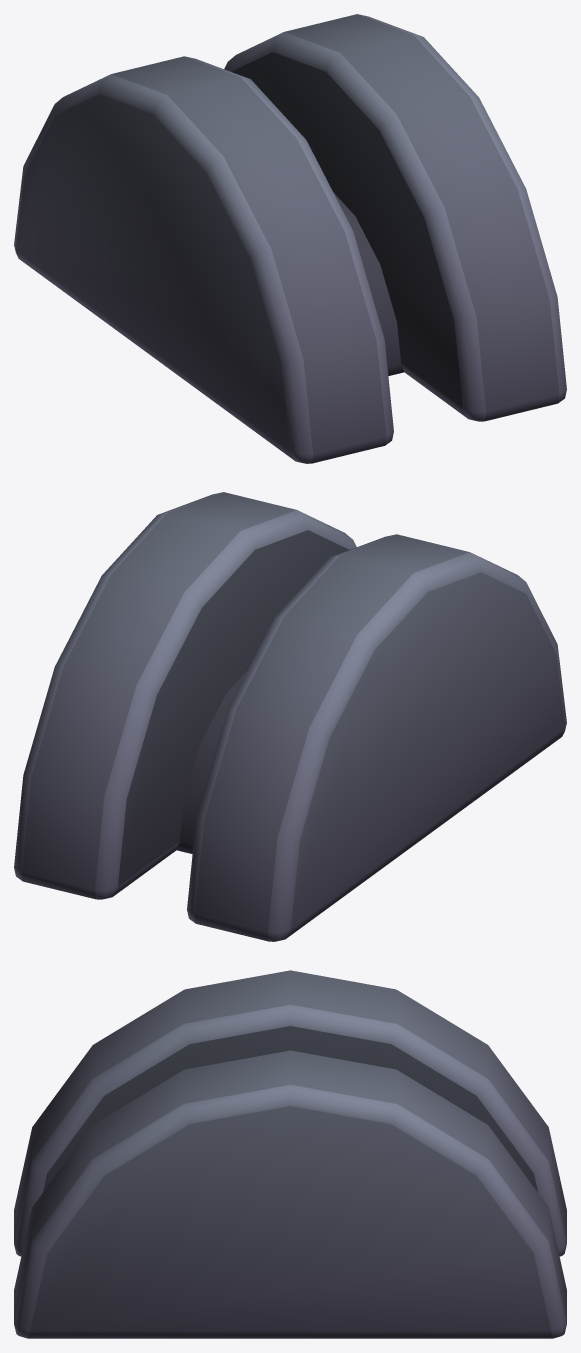
File: lever-platform.fbx
The picture shows the model from 3 angles, top to bottom: view 1: azimuth 30°, elevation 25°; view 2: azimuth 150°, elevation 25°; view 3: azimuth 270°, elevation 25°; orthographic projection. The views are drawn at different scales.
Visible parts, largest first — view 1: Lever-Platform; view 2: Lever-Platform; view 3: Lever-Platform.
Part boxes in pixels (x1,y1,x2,y2): Lever-Platform: [14, 14, 566, 463]; Lever-Platform: [14, 492, 566, 941]; Lever-Platform: [14, 970, 566, 1338].
Bounding box in the file's own units: 95.41 × 88.54 × 175.
